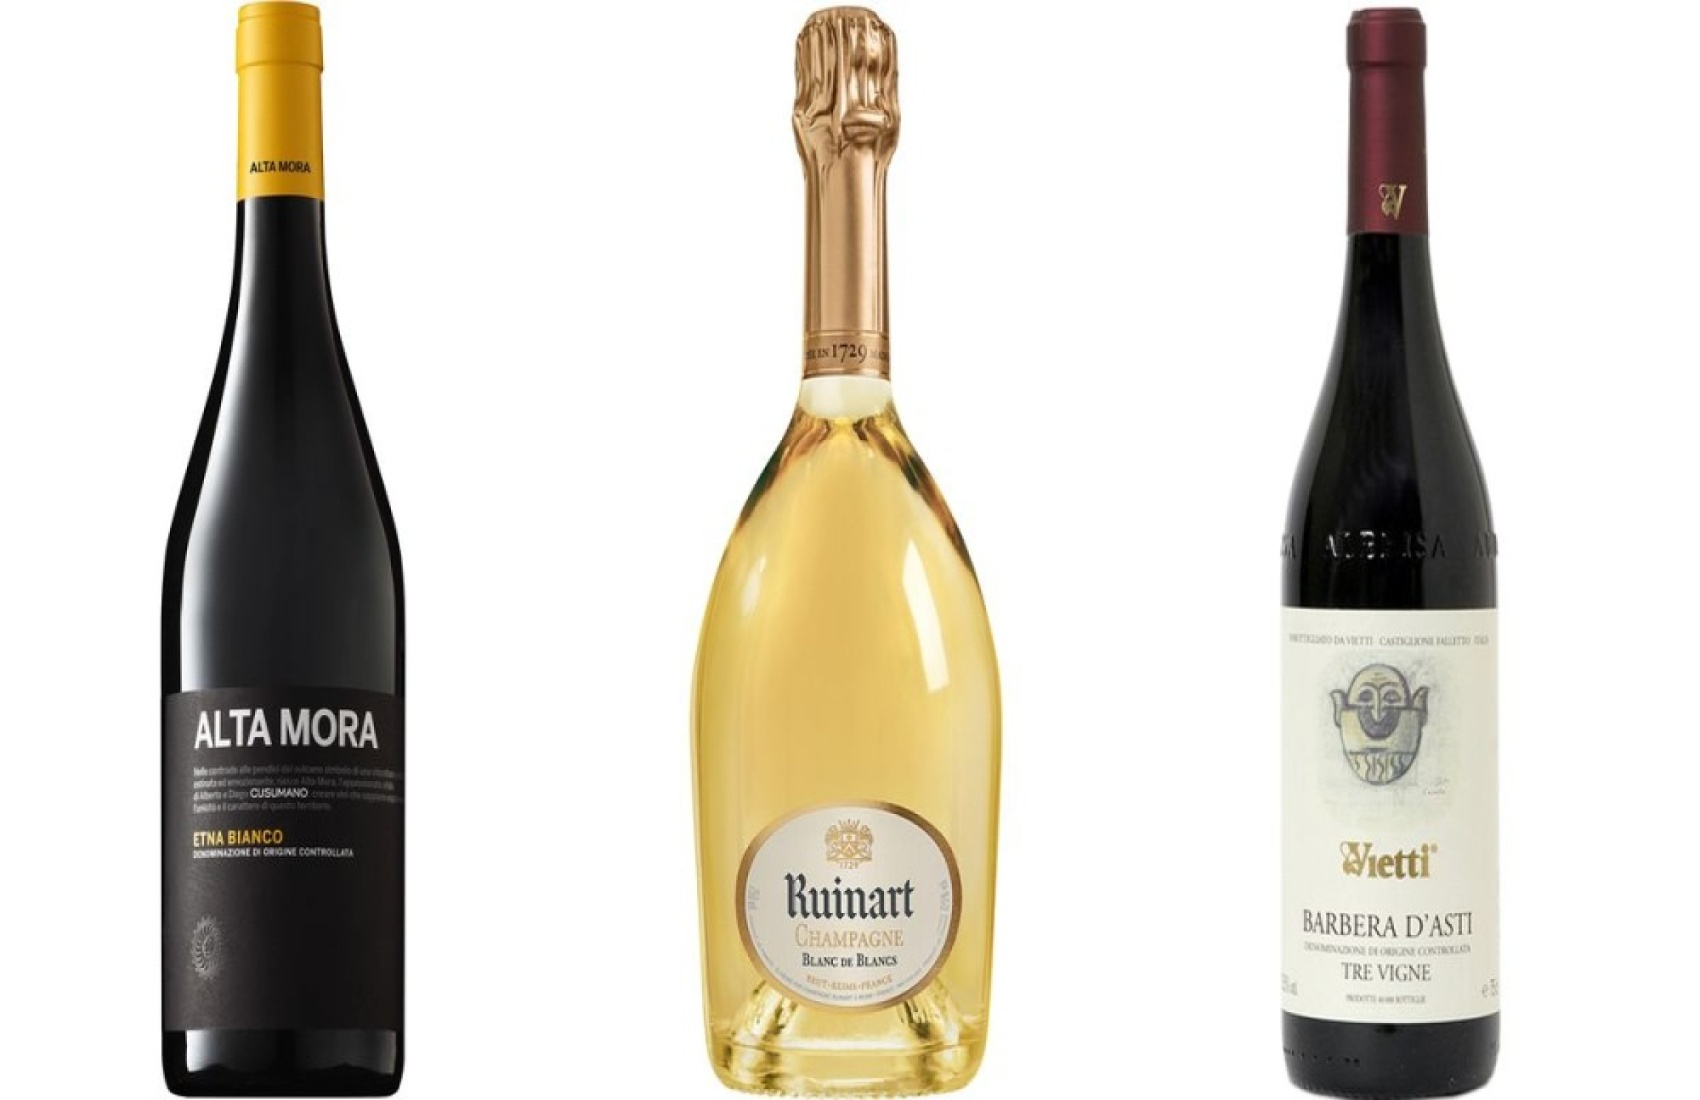wine: (686, 31, 988, 1098), (150, 31, 406, 1090), (1280, 37, 1505, 1093)
